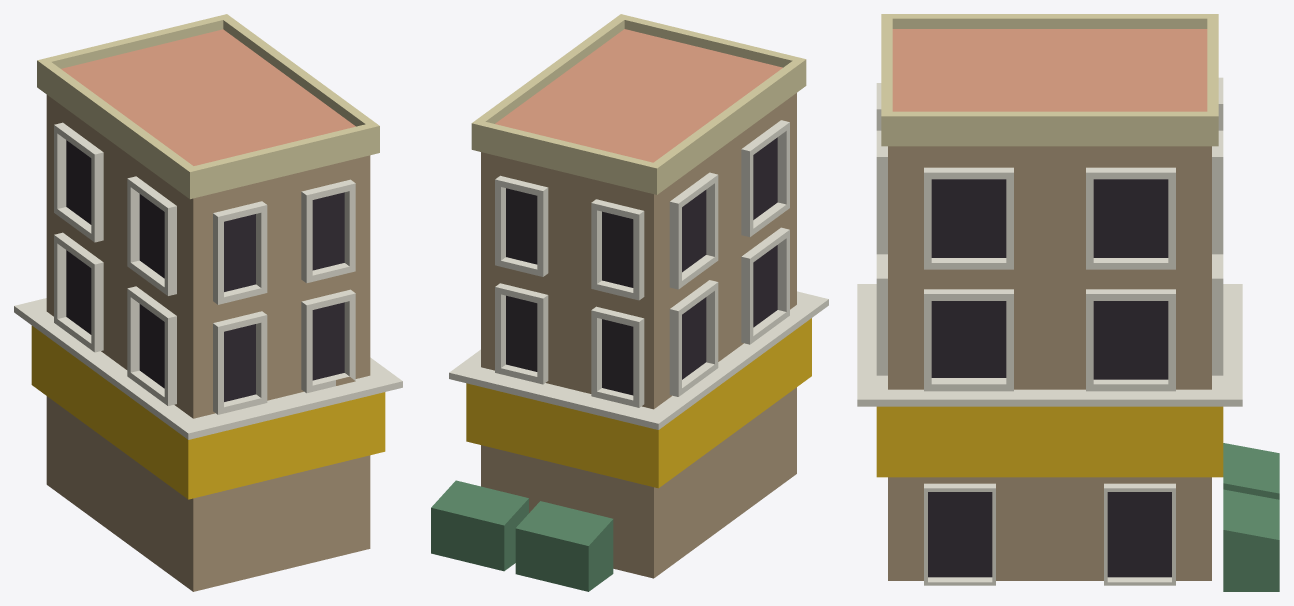
File: 建筑物3.fbx
The picture shows the model from 3 angles, left to right: view 1: azimuth 30°, elevation 25°; view 2: azimuth 150°, elevation 25°; view 3: azimuth 270°, elevation 25°; orthographic projection. The views are drawn at different scales.
Parts seen in each view (by area): view 1: 立方体_9_1; view 2: 立方体_9_1; view 3: 立方体_9_1.
Boxes of the visible parts, bbox=[...] form: 立方体_9_1: bbox=[14, 14, 402, 591]; 立方体_9_1: bbox=[431, 14, 828, 591]; 立方体_9_1: bbox=[857, 14, 1279, 591].
Bounding box in the file's own units: 725 × 1359 × 1110.
